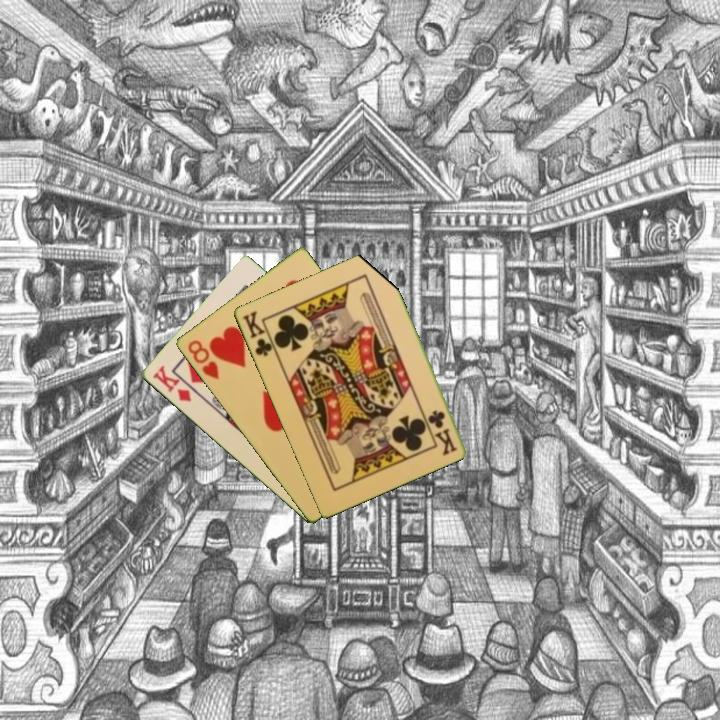8h: (184, 336, 222, 383)
Kc: (238, 307, 279, 360), (425, 406, 460, 458)
Kd: (148, 362, 194, 405)
